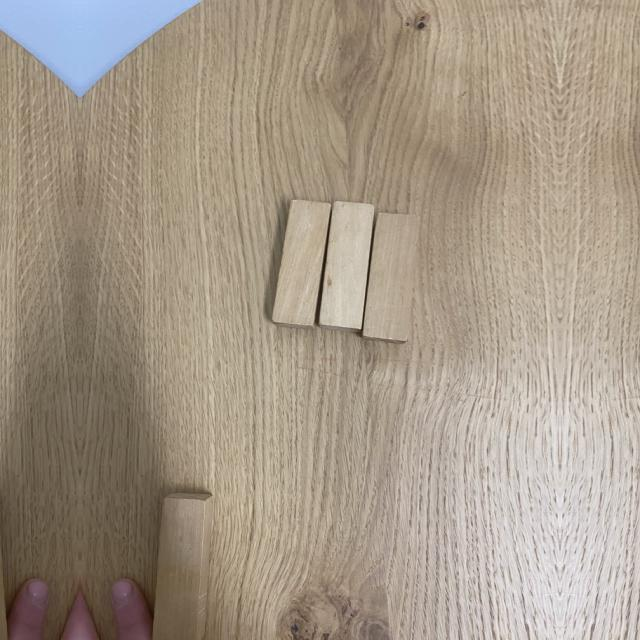block: (314, 202, 374, 333)
jenga: (152, 493, 214, 640), (272, 200, 332, 328), (362, 211, 419, 344)
